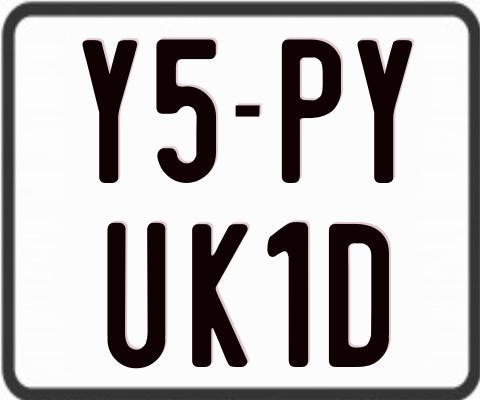1: (264, 221, 308, 370)
5: (155, 38, 216, 187)
D: (326, 222, 386, 367)
K: (190, 224, 251, 372)
P: (280, 38, 345, 182)
U: (107, 223, 171, 372)
Y: (81, 37, 140, 181), (356, 38, 410, 183)
